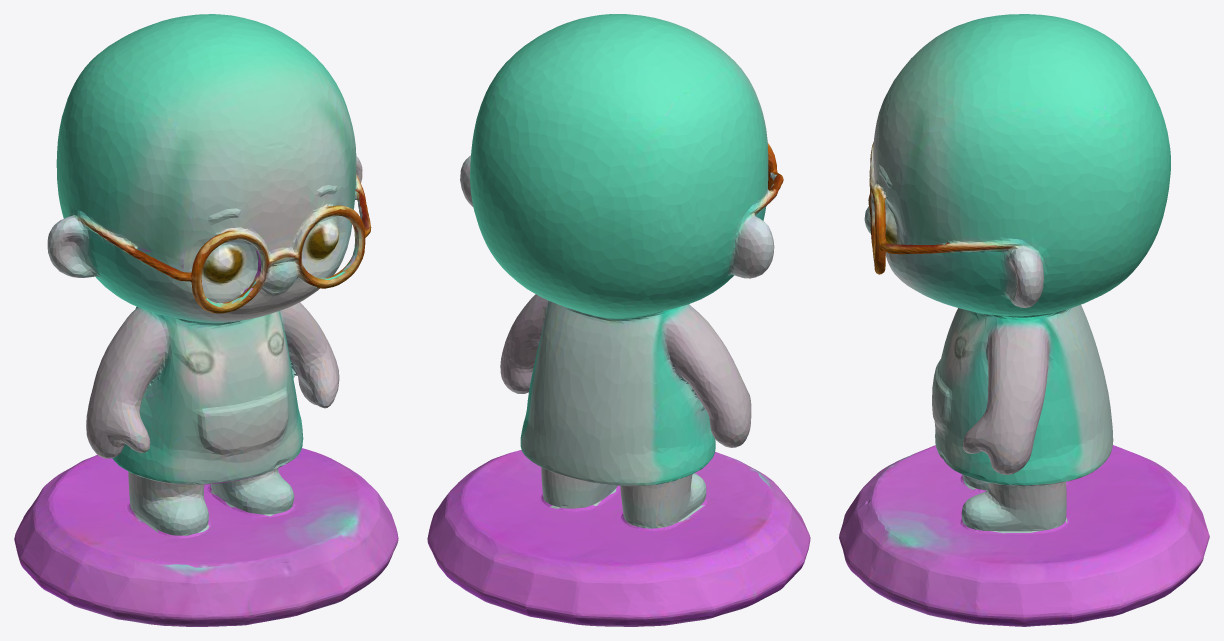
Rendered from fig-59.glb.
The picture shows the model from 3 angles, left to right: view 1: azimuth 30°, elevation 25°; view 2: azimuth 150°, elevation 25°; view 3: azimuth 270°, elevation 25°; orthographic projection.
Parts seen in each view (by area): view 1: tmpbjhuzktz.ply; view 2: tmpbjhuzktz.ply; view 3: tmpbjhuzktz.ply.
Part boxes in pixels (x1=…): tmpbjhuzktz.ply: x1=14, y1=14, x2=398, y2=626; tmpbjhuzktz.ply: x1=427, y1=14, x2=810, y2=626; tmpbjhuzktz.ply: x1=839, y1=14, x2=1209, y2=626.
Bounding box in the file's own units: 1.33 × 1.99 × 1.28.
1 material, 1 textured.
